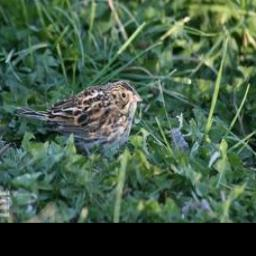Sparrow: (11, 78, 146, 160)
